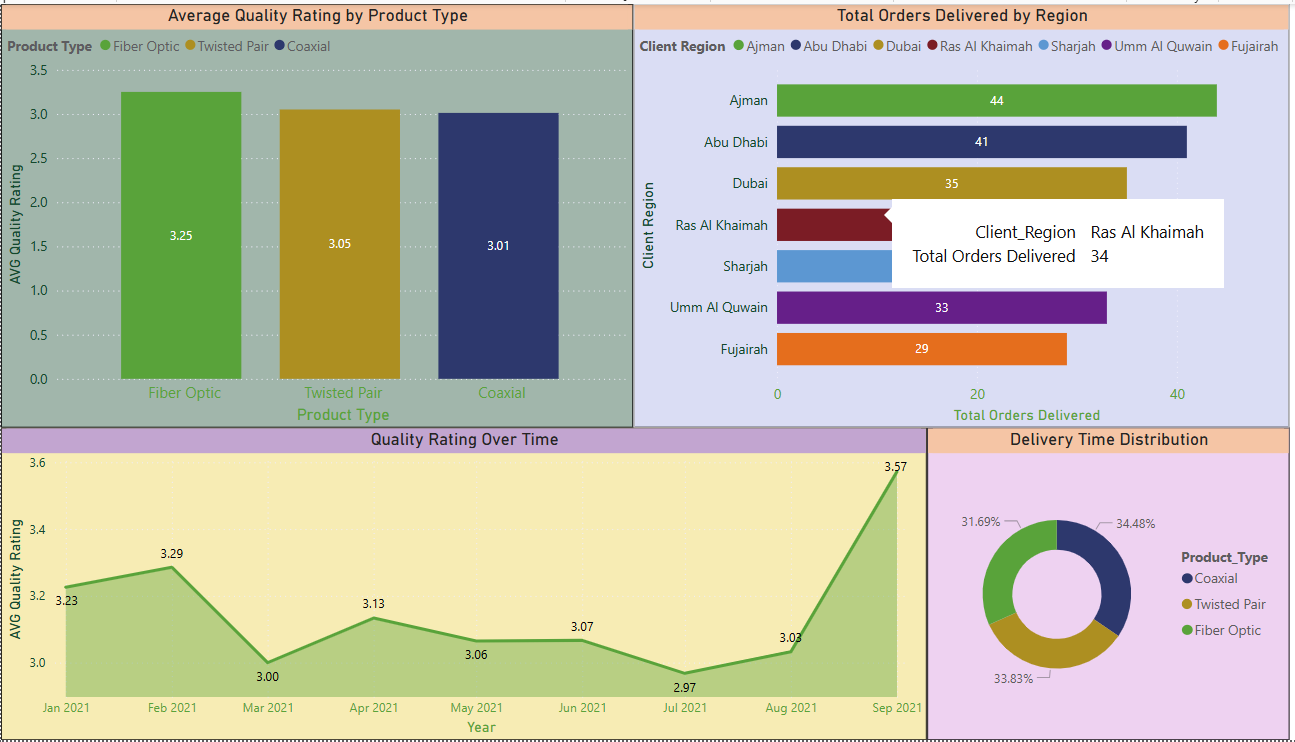

Layout of this report page (visuals, bound fields, positions):
{"tool":"powerbi","page":{"name":"Quality and Delivery","canvas":[1280,720],"ordinal":1},"visuals":[{"type":"columnChart","title":"Average Quality Rating by Product Type","fields":{"Category":["Manu.Product_Type"],"Y":["Manu.AVG Quality Rating"],"Series":["Manu.Product_Type"]},"box":[0,0,618.5,414.4],"z":0},{"type":"barChart","title":"Total Orders Delivered by Region","fields":{"Category":["Manu.Client_Region"],"Y":["Manu.Total Orders Delivered"],"Series":["Manu.Client_Region"]},"box":[618.5,0,641.8,414.4],"z":1000},{"type":"areaChart","title":"Quality Rating Over Time","fields":{"Category":["Manu.Production_Date.Variation.Date Hierarchy.Year","Manu.Production_Date.Variation.Date Hierarchy.Quarter","Manu.Production_Date.Variation.Date Hierarchy.Month","Manu.Production_Date.Variation.Date Hierarchy.Day"],"Y":["Manu.AVG Quality Rating"]},"box":[0,414.4,905.8,305.6],"z":2000},{"type":"donutChart","title":"Delivery Time Distribution","fields":{"Category":["Manu.Product_Type"],"Y":["Manu.AVG Delivery Time"]},"box":[905.8,414.4,354.5,305.6],"z":3000}]}

Visuals, with their boxes in screenshot pixels (x1, y1, x2, y2), scaled from the page's 1280x720 canvas onto the 1295x742 screenshot:
"Average Quality Rating by Product Type" columnChart: 0 0 626 427
"Total Orders Delivered by Region" barChart: 626 0 1275 427
"Quality Rating Over Time" areaChart: 0 427 916 741
"Delivery Time Distribution" donutChart: 916 427 1275 741
